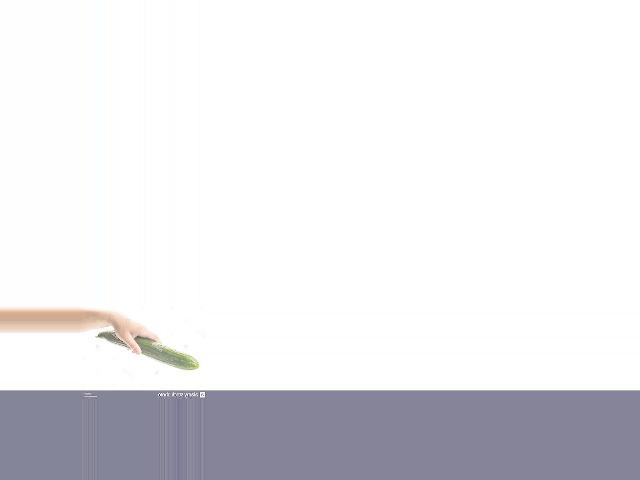cucumber: (94, 330, 199, 370)
